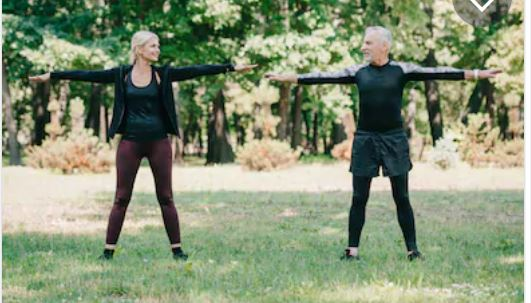Caution: (26, 25, 502, 267)
